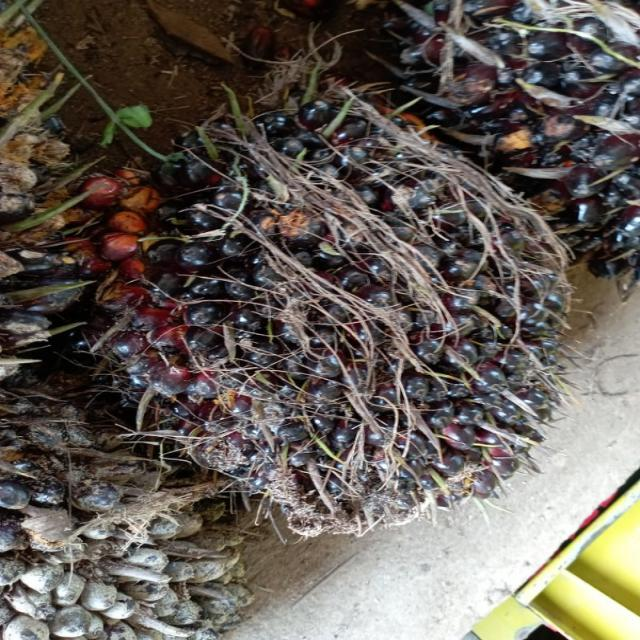fraksi 00: (79, 94, 584, 533)
